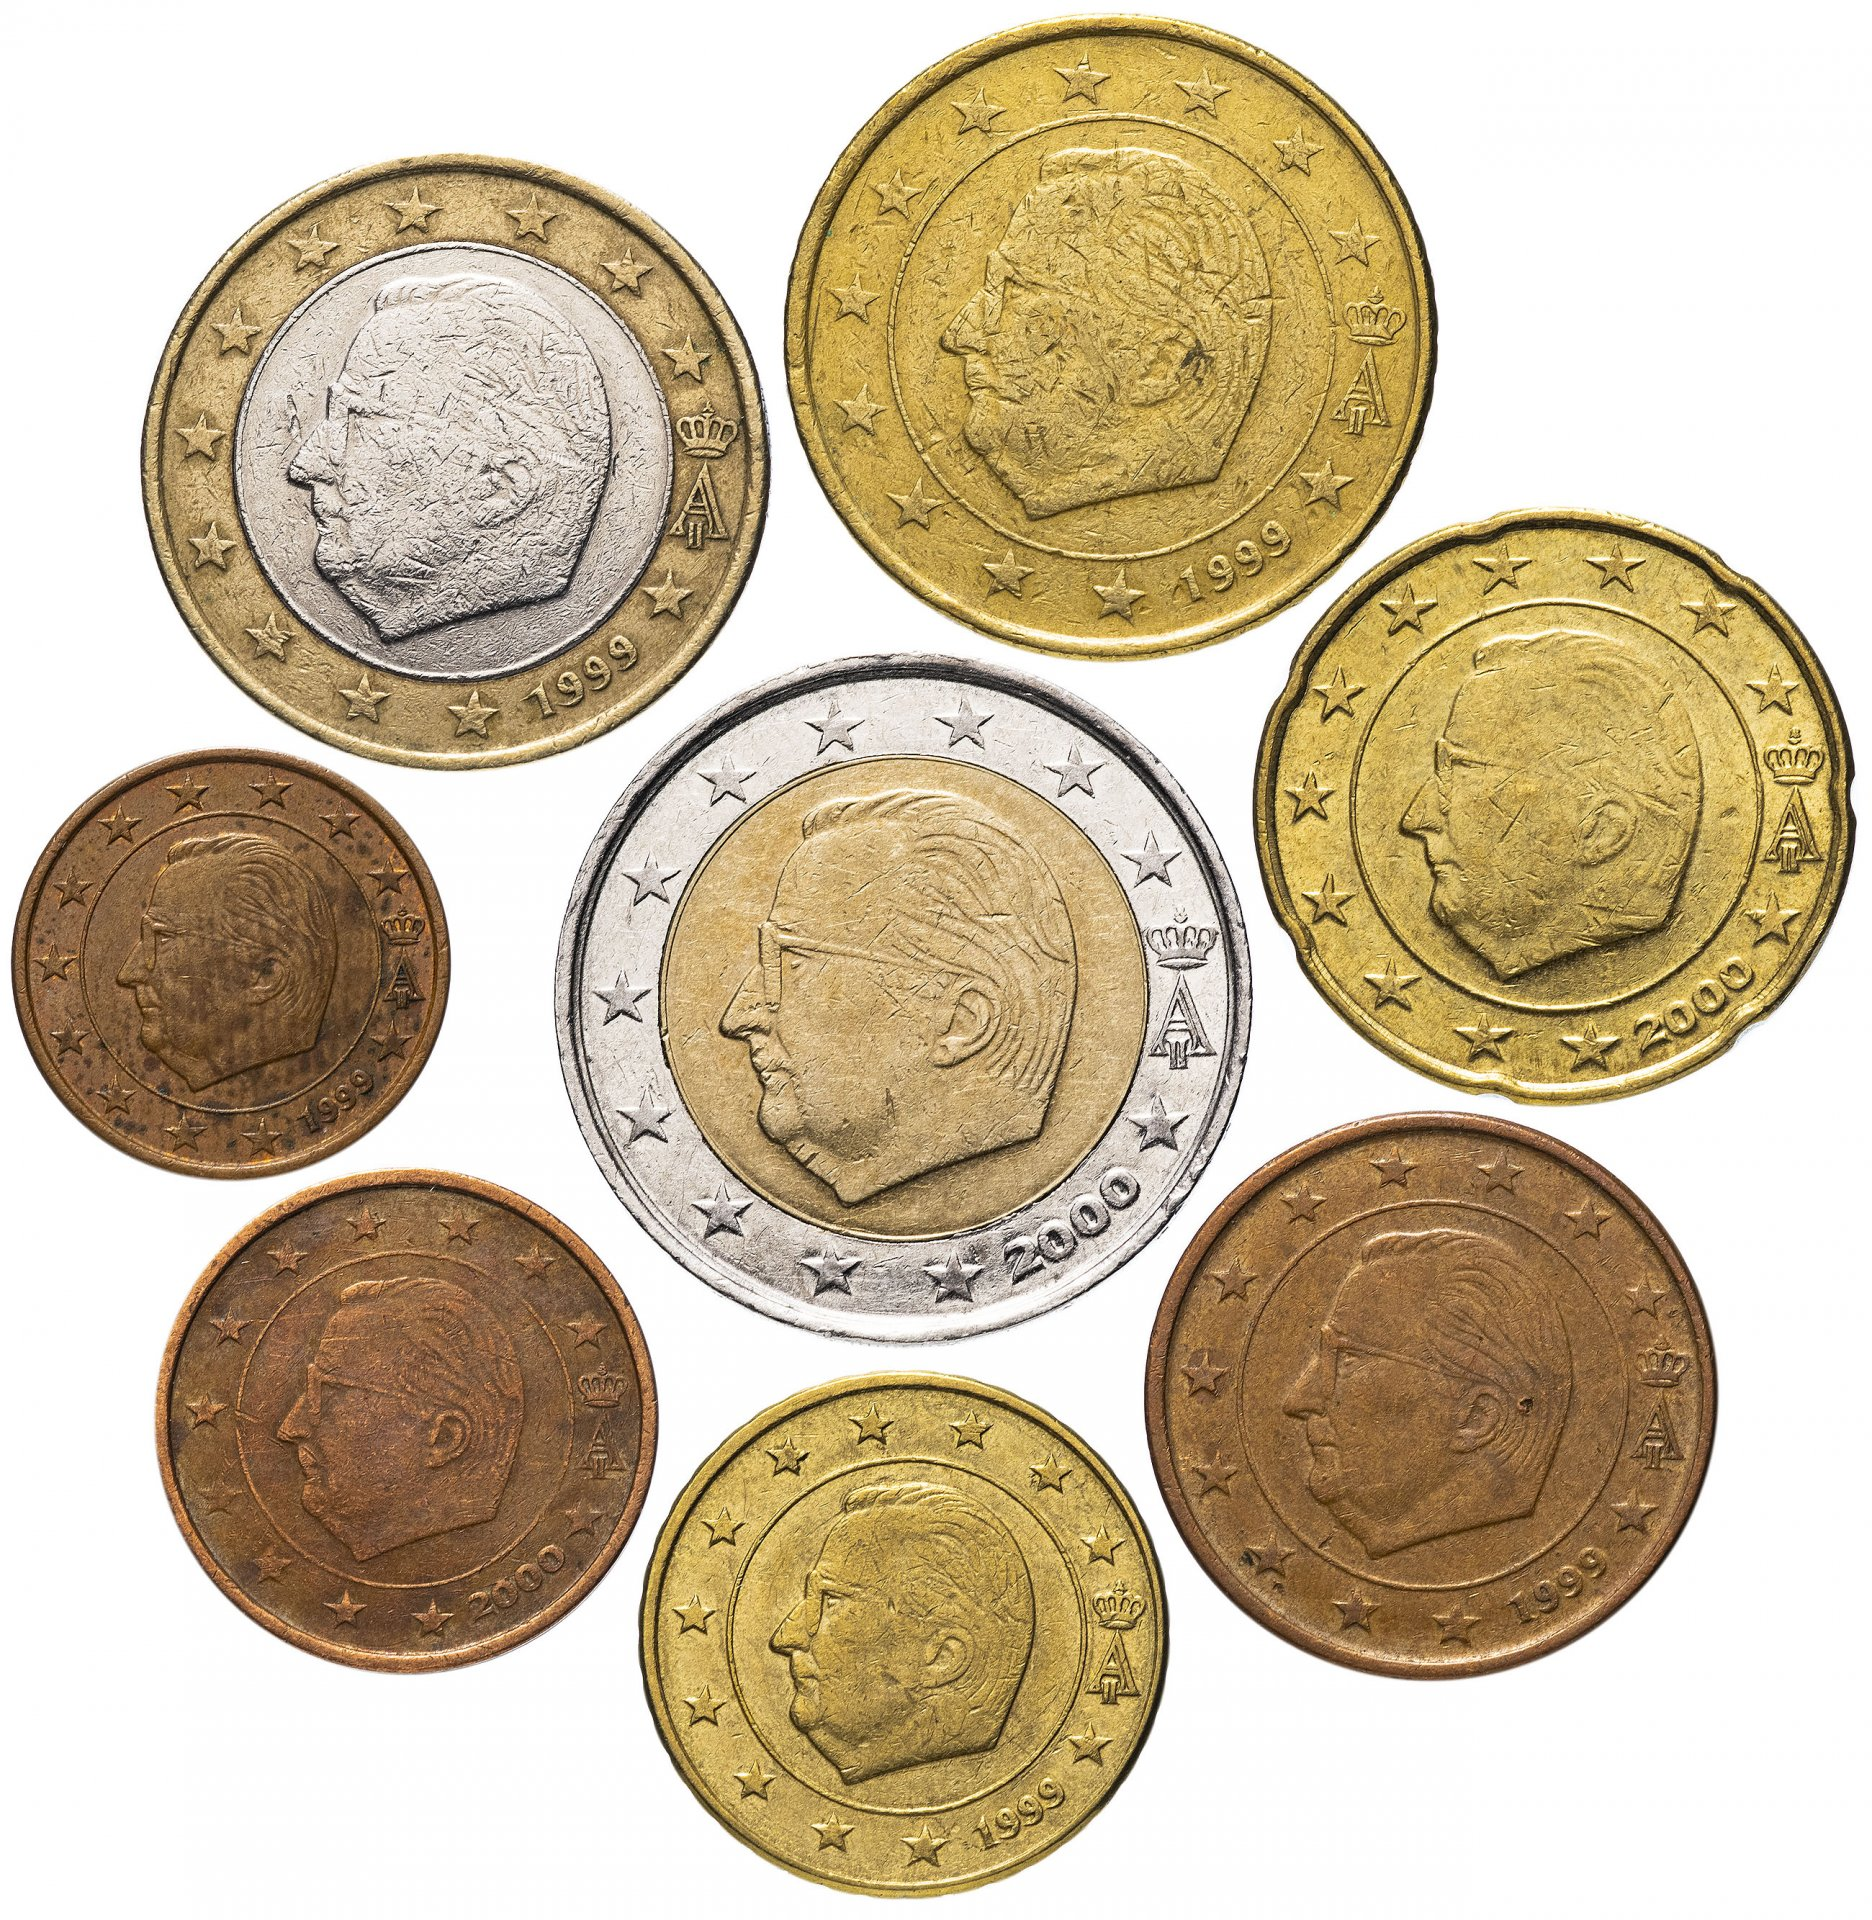coin: (550, 650, 1253, 1346), (785, 15, 1443, 658), (135, 149, 768, 770), (1251, 506, 1853, 1111), (1142, 1107, 1721, 1682), (638, 1370, 1171, 1896), (153, 1166, 662, 1671), (12, 746, 449, 1181)
